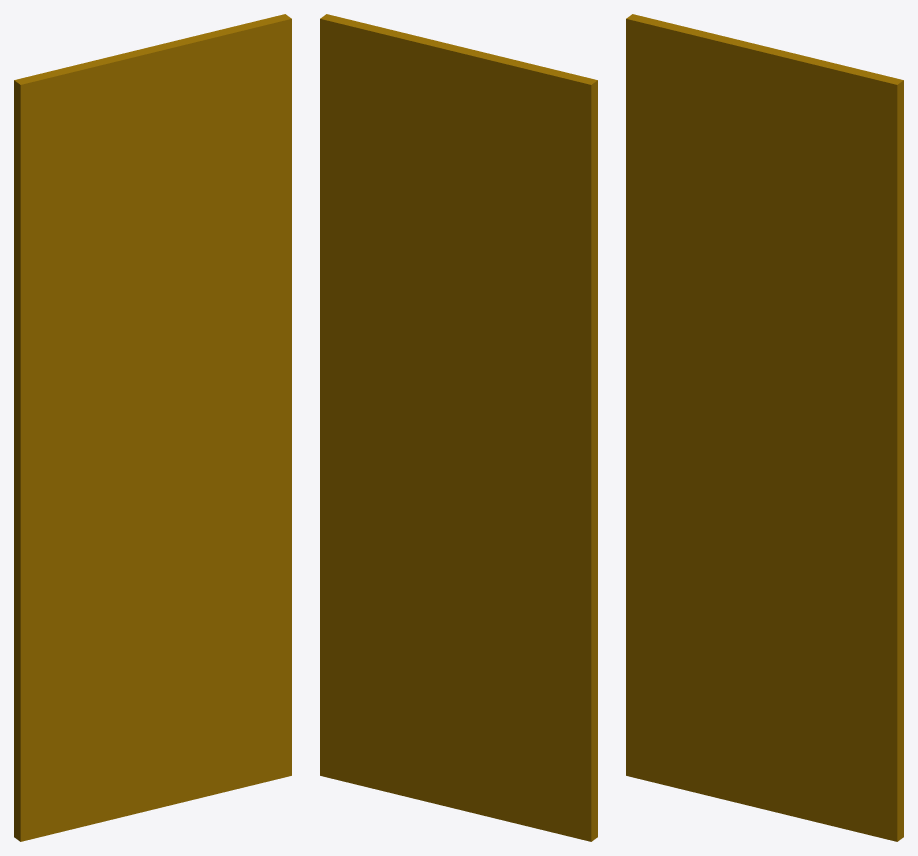
Rendered from board.dae.
3 views of the same model, side by side, from view 1: azimuth 30°, elevation 25°; view 2: azimuth 150°, elevation 25°; view 3: azimuth 330°, elevation 25° (orthographic).
Parts seen in each view (by area): view 1: group_4.003; view 2: group_4.003; view 3: group_4.003.
Part boxes in pixels (x1,y1,x2,y2): group_4.003: [14, 14, 291, 841]; group_4.003: [320, 14, 597, 841]; group_4.003: [626, 14, 903, 841].
Bounding box in the file's own units: 0.762 × 0.0318 × 2.03.
